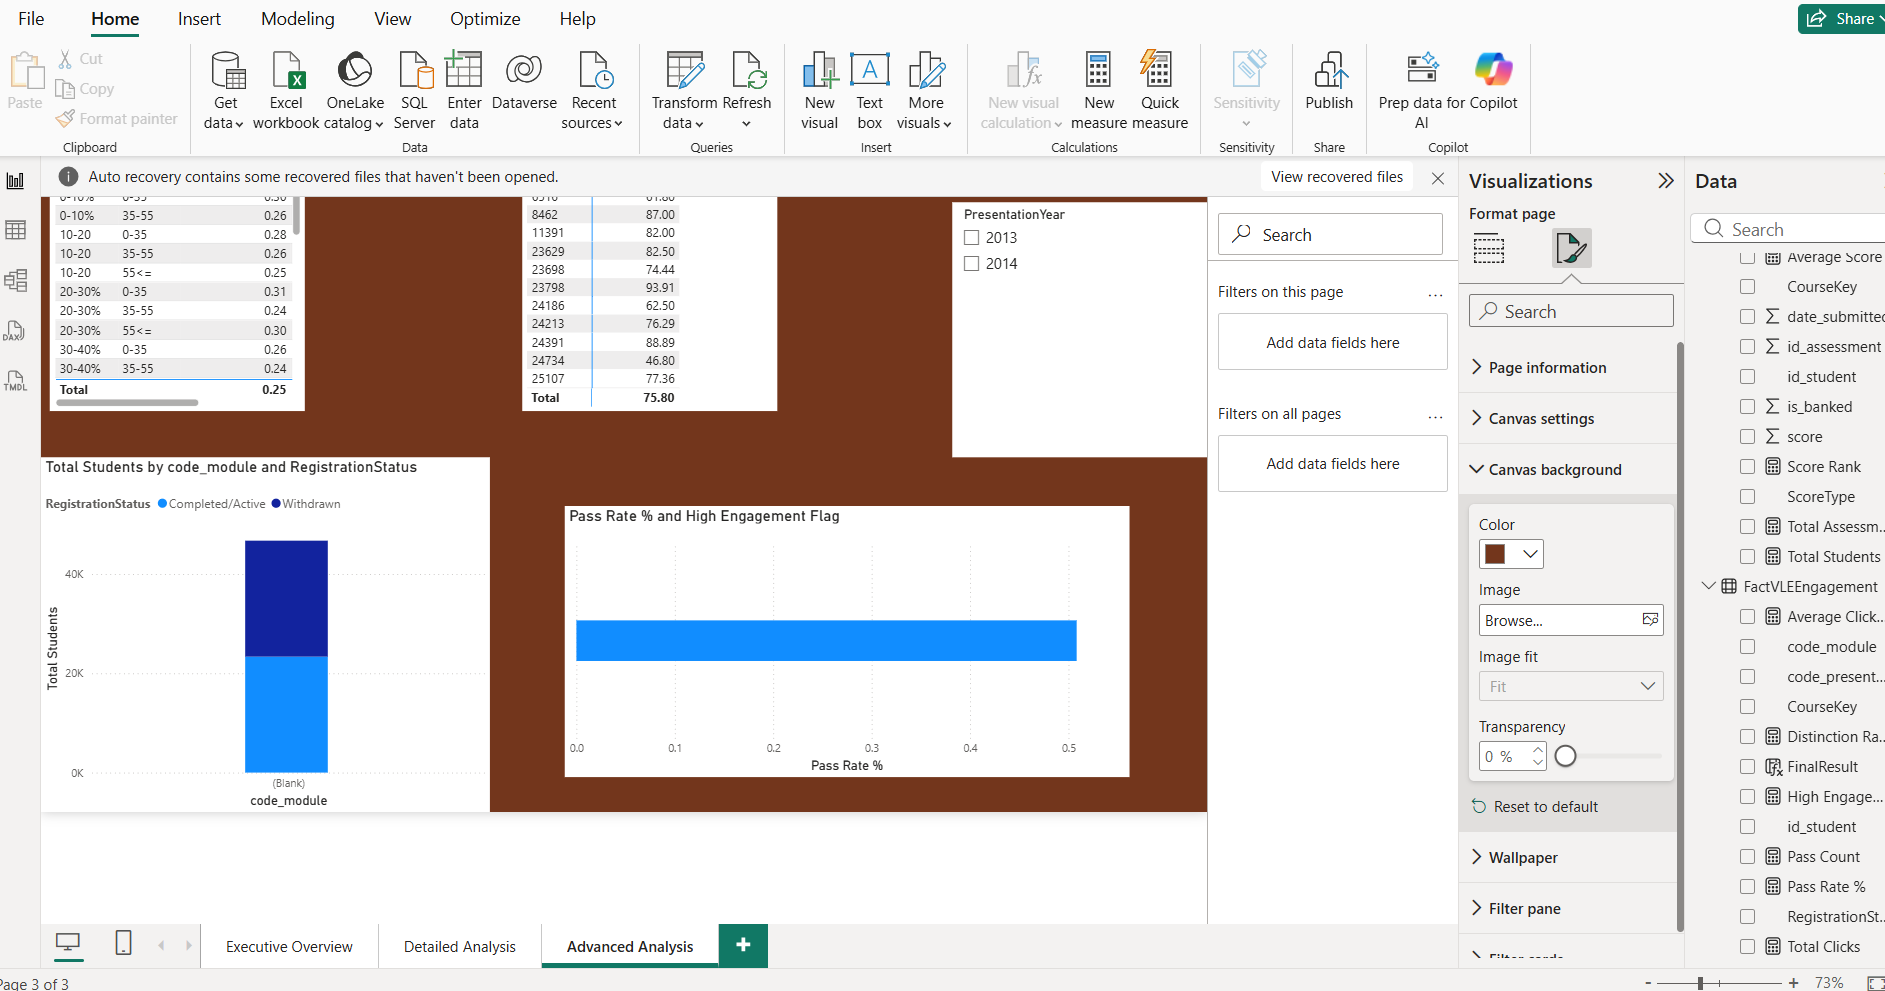

What the dashboard file says about the page in this screenshot:
{"tool":"powerbi","page":{"name":"Advanced Analysis","canvas":[1280,720],"ordinal":2},"visuals":[{"type":"tableEx","fields":{"Values":["DimStudent.imd_band","DimStudent.age_band","FactVLEEngagement.Withdrawal Rate %","FactVLEEngagement.Average Clicks per Student"]},"box":[10,0,280,280],"z":0},{"type":"columnChart","fields":{"Category":["DimCourse.code_module"],"Series":["FactVLEEngagement.RegistrationStatus"],"Y":["FactAssessment.Total Students"]},"box":[0,330.7,492.6,389.7],"z":1},{"type":"clusteredBarChart","fields":{"Y":["FactVLEEngagement.Pass Rate %"]},"box":[575,384.2,620.2,297.8],"z":2},{"type":"pivotTable","fields":{"Rows":["FactAssessment.id_student"],"Values":["FactAssessment.Average Score"]},"box":[528.3,0,280,280],"z":3},{"type":"slicer","fields":{"Values":["DimDate.PresentationYear"]},"box":[1000.3,50.8,280,280],"z":4}]}

Visuals, with their boxes on the page's 1280x720 design canvas (x1, y1, x2, y2). These are canvas units, not pixel positions in the 1885x991 screenshot, which may show the page scaled, cropped or inside an application window:
tableEx - DimStudent.imd_band x DimStudent.age_band: (left=10, top=0, right=290, bottom=280)
columnChart - DimCourse.code_module x FactVLEEngagement.RegistrationStatus: (left=0, top=331, right=493, bottom=720)
clusteredBarChart - FactVLEEngagement.Pass Rate %: (left=575, top=384, right=1195, bottom=682)
pivotTable - FactAssessment.id_student x FactAssessment.Average Score: (left=528, top=0, right=808, bottom=280)
slicer - DimDate.PresentationYear: (left=1000, top=51, right=1280, bottom=331)
